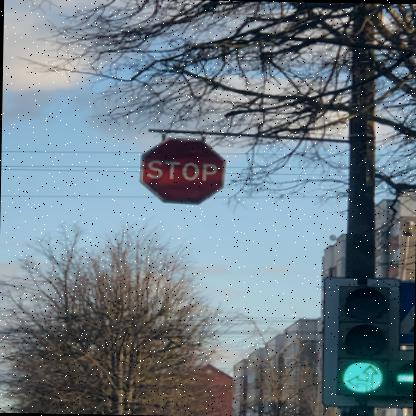crosswalk: (400, 280, 414, 348)
stop: (136, 136, 224, 204)
trafficlight: (334, 282, 413, 398)
